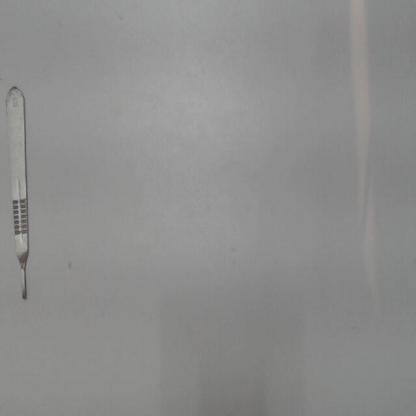No.3 BP Handle: (4, 70, 30, 304)
